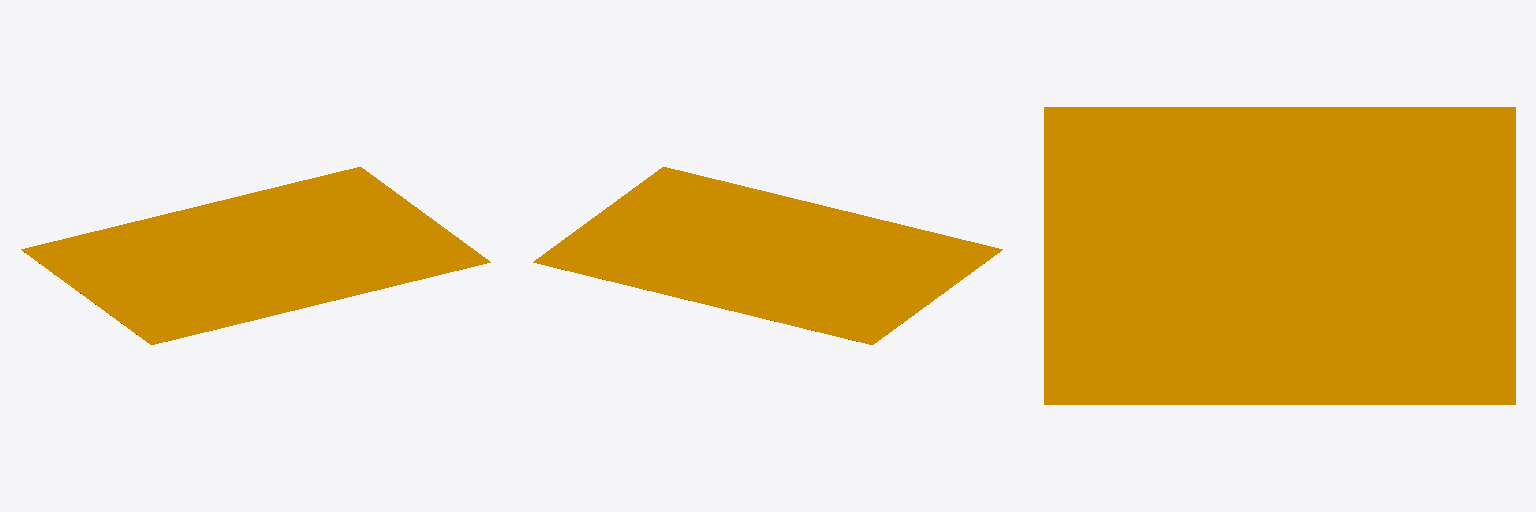
robot.urdf — 2d_cube:
<?xml version="1.0"?>
<robot name="2d_cube">
  <link name="base_link">
    <visual>
      <geometry>
        <box size="60 40 0.01"/>
      </geometry>
      <origin rpy="0 0 0" xyz="0 0 0"/>
    </visual>
    <collision>
      <geometry>
        <box size="60 40 0.01"/>
      </geometry>
      <origin rpy="0 0 0" xyz="0 0 0"/>
    </collision>
  </link>
</robot>

--- Facts derived from the render (not from the file) ---
The picture shows the robot from 3 angles, left to right: view 1: azimuth 30°, elevation 25°; view 2: azimuth 150°, elevation 25°; view 3: azimuth 270°, elevation 25°; orthographic projection.
Robot: 2d_cube — 1 links, 0 joints (none); root link base_link; default pose: all joints at 0.
Visible links, largest first — view 1: base_link; view 2: base_link; view 3: base_link.
Boxes of the visible links, x1,y1,x2,y2 form: base_link: (21, 167, 490, 344); base_link: (533, 167, 1002, 344); base_link: (1044, 107, 1515, 404).
Size in the robot's own frame: 60 by 40 by 0.01 metres.
Geometry: primitives only (box / cylinder / sphere), no mesh files.
